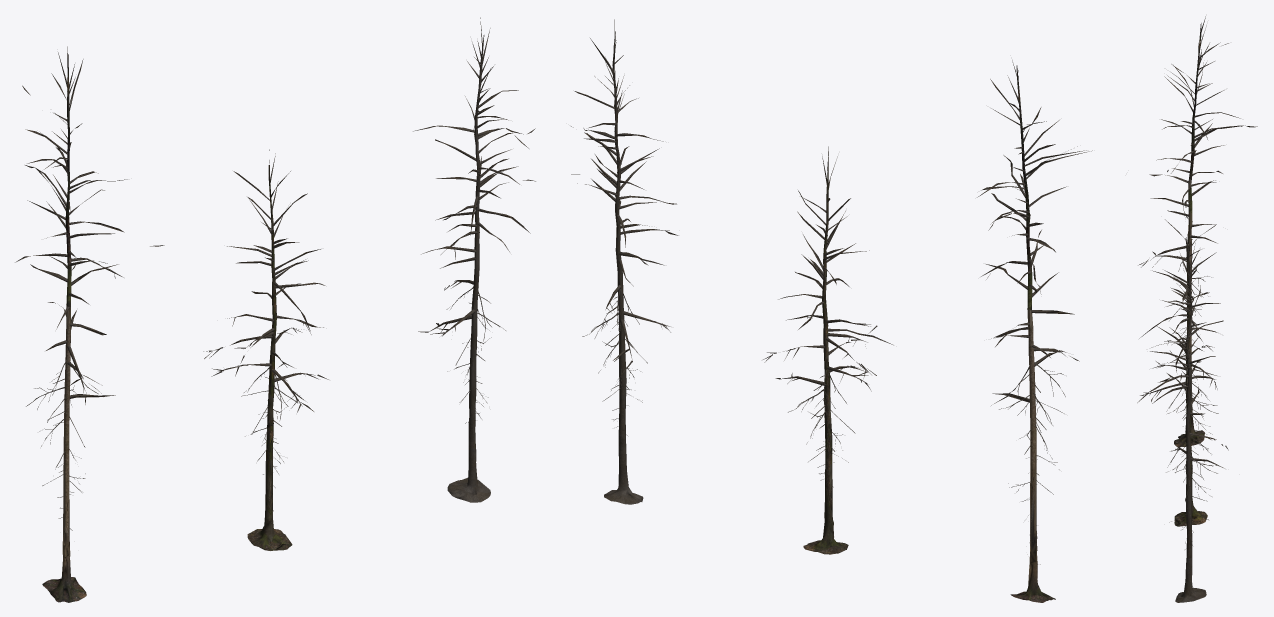
The model's file is glb_t3_pine.3b30c75d.glb.
The picture shows the model from 3 angles, left to right: view 1: azimuth 30°, elevation 25°; view 2: azimuth 150°, elevation 25°; view 3: azimuth 270°, elevation 25°; orthographic projection. The views are drawn at different scales.
Visible parts, largest first — view 1: pine_tree_01_a_LOD0, pine_tree_01_c_LOD0, pine_tree_01_b_LOD0; view 2: pine_tree_01_a_LOD0, pine_tree_01_c_LOD0, pine_tree_01_b_LOD0; view 3: pine_tree_01_c_LOD0, pine_tree_01_a_LOD0, pine_tree_01_b_LOD0.
Part boxes in pixels (x1,y1,x2,y2): pine_tree_01_a_LOD0: (15, 46, 164, 602); pine_tree_01_c_LOD0: (413, 17, 535, 502); pine_tree_01_b_LOD0: (203, 149, 328, 550); pine_tree_01_a_LOD0: (977, 60, 1092, 602); pine_tree_01_c_LOD0: (571, 19, 678, 504); pine_tree_01_b_LOD0: (763, 146, 893, 554); pine_tree_01_c_LOD0: (1146, 226, 1228, 602); pine_tree_01_a_LOD0: (1138, 16, 1257, 446); pine_tree_01_b_LOD0: (1137, 201, 1218, 526).
Size of the model in its own units: 17.85 by 17.97 by 5.05.
5 materials, 5 textured.
